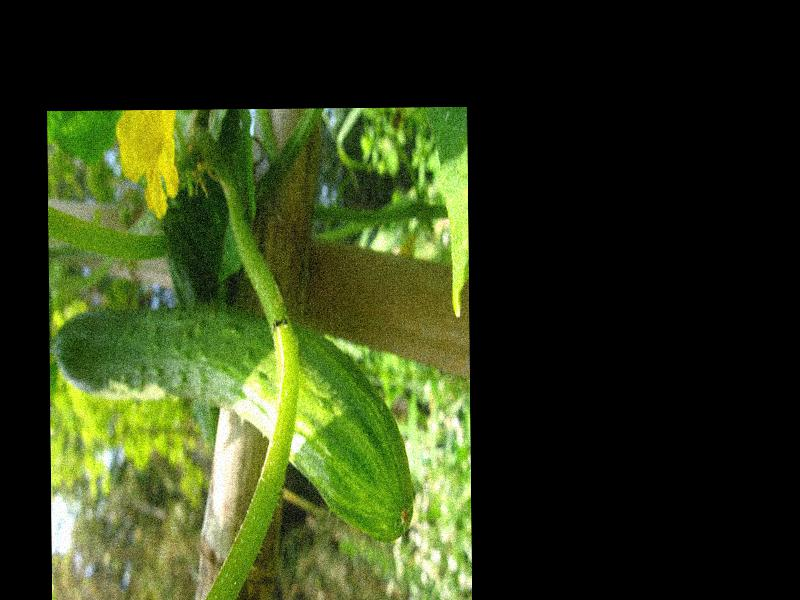Cucumber: (52, 304, 413, 542)
